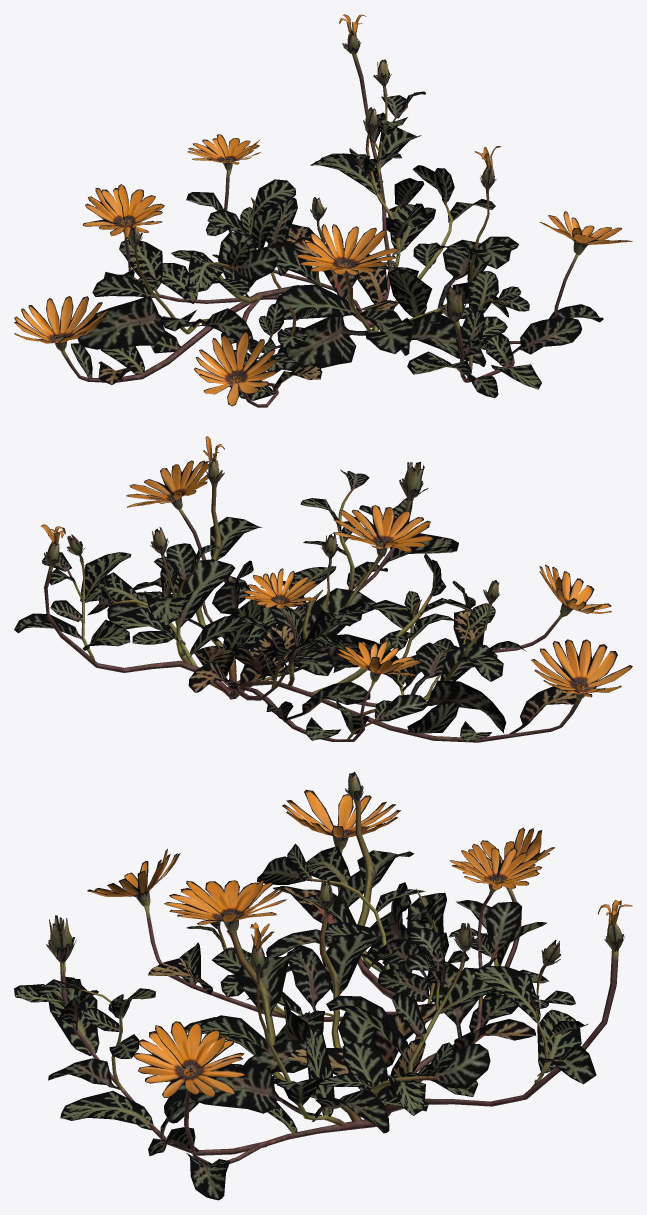
Rendered from wattle-sprig.glb.
The picture shows the model from 3 angles, top to bottom: view 1: azimuth 30°, elevation 25°; view 2: azimuth 150°, elevation 25°; view 3: azimuth 270°, elevation 25°; orthographic projection. The views are drawn at different scales.
Visible parts, largest first — view 1: flower_ursinia_a_LOD0; view 2: flower_ursinia_a_LOD0; view 3: flower_ursinia_a_LOD0.
Boxes of the visible parts, x1,y1,x2,y2 form: flower_ursinia_a_LOD0: [14, 14, 632, 407]; flower_ursinia_a_LOD0: [14, 436, 632, 742]; flower_ursinia_a_LOD0: [14, 771, 632, 1200].
Size of the model in its own units: 0.4254 by 0.1641 by 0.3433.
Materials: 1 (1 with a texture image).
